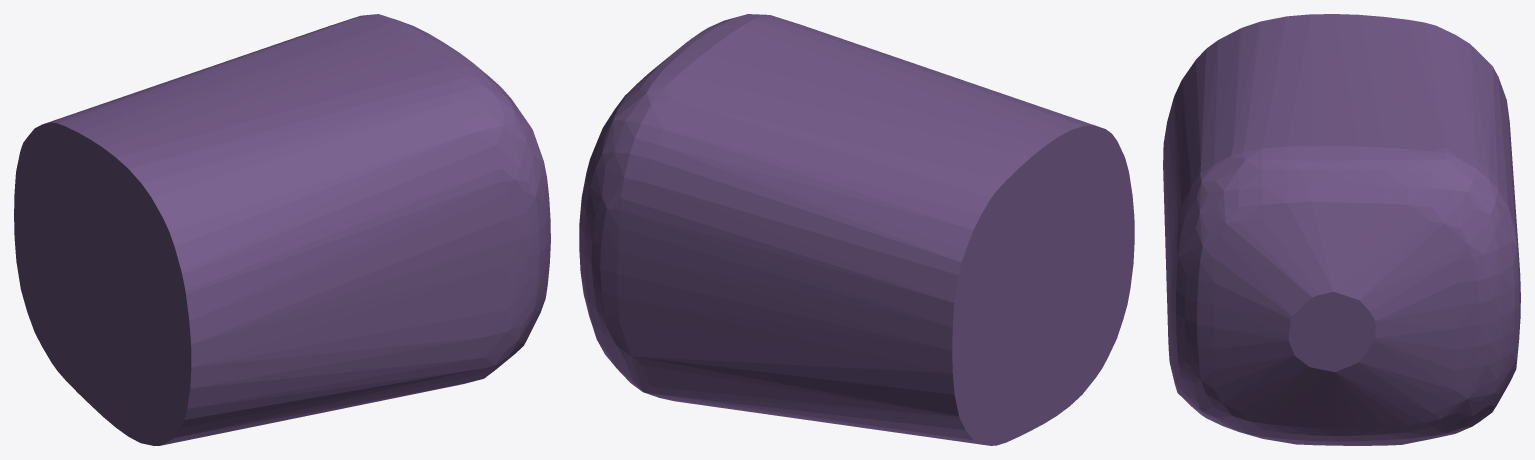
3 views of the same model, side by side, from view 1: azimuth 30°, elevation 25°; view 2: azimuth 150°, elevation 25°; view 3: azimuth 270°, elevation 25° (orthographic). The views are drawn at different scales.
Size of the model in its own units: 0.0366 by 0.0255 by 0.0281.
